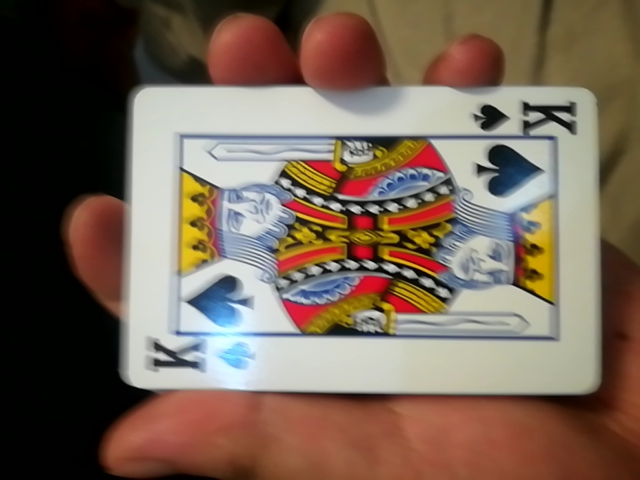ht k: (104, 81, 597, 403)
